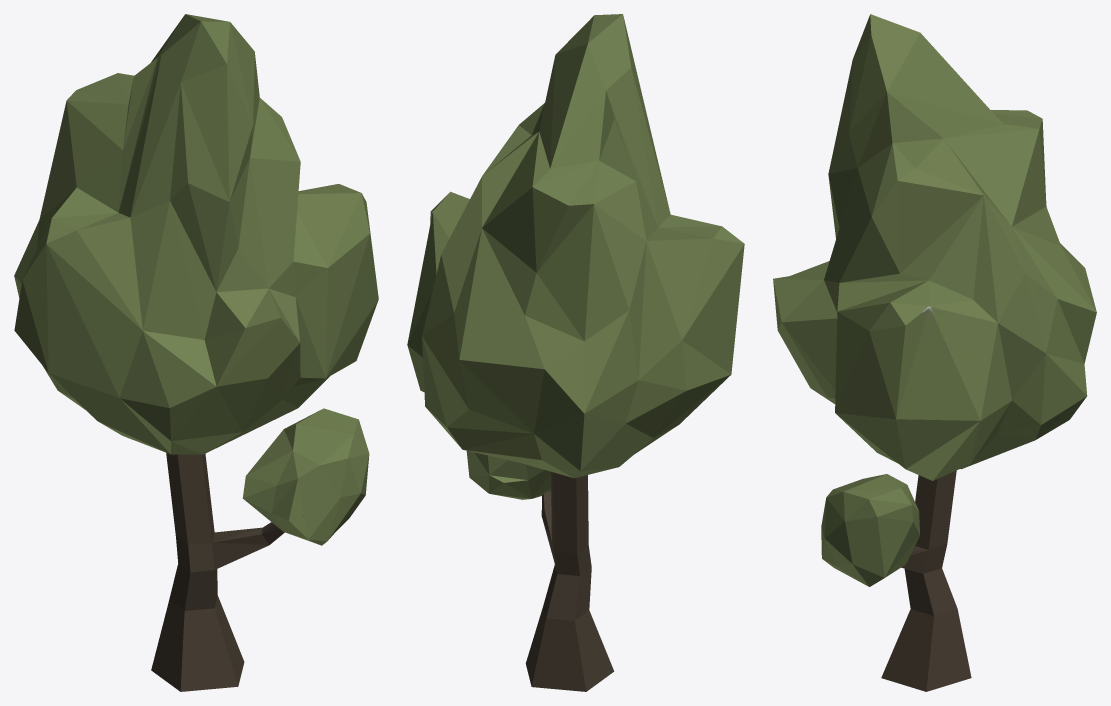
File: SM_Tree_03.fbx
3 renders of one model, left to right at view 1: azimuth 30°, elevation 25°; view 2: azimuth 150°, elevation 25°; view 3: azimuth 270°, elevation 25°, orthographic. The views are drawn at different scales.
Parts seen in each view (by area): view 1: SM_Tree_03; view 2: SM_Tree_03; view 3: SM_Tree_03.
Part boxes in pixels (<box>): SM_Tree_03: <box>14,14,378,691</box>; SM_Tree_03: <box>407,14,744,691</box>; SM_Tree_03: <box>773,14,1096,691</box>.
Bounding box in the file's own units: 125 × 245 × 111.
Materials: 1 (1 with a texture image).
